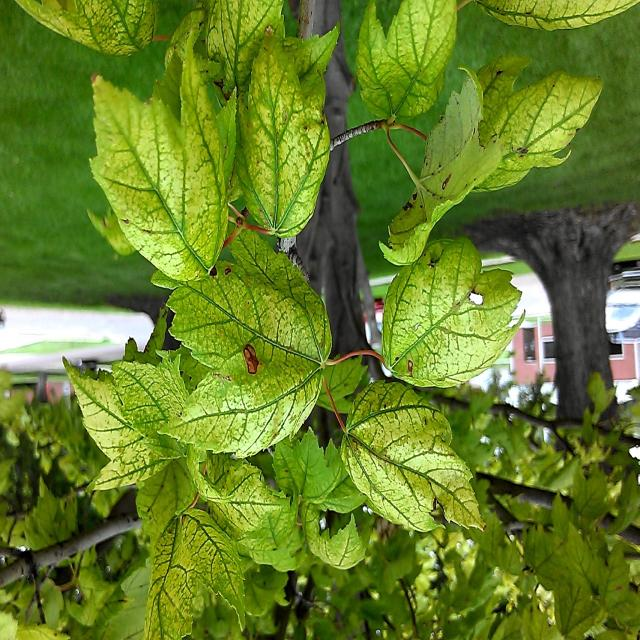Chlorosis: (60, 0, 562, 622)
